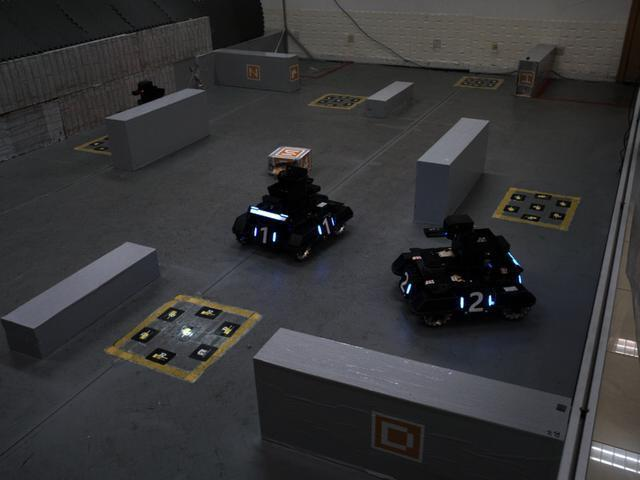armor: (457, 287, 497, 314), (247, 220, 280, 249), (394, 264, 415, 300), (312, 212, 339, 238)
